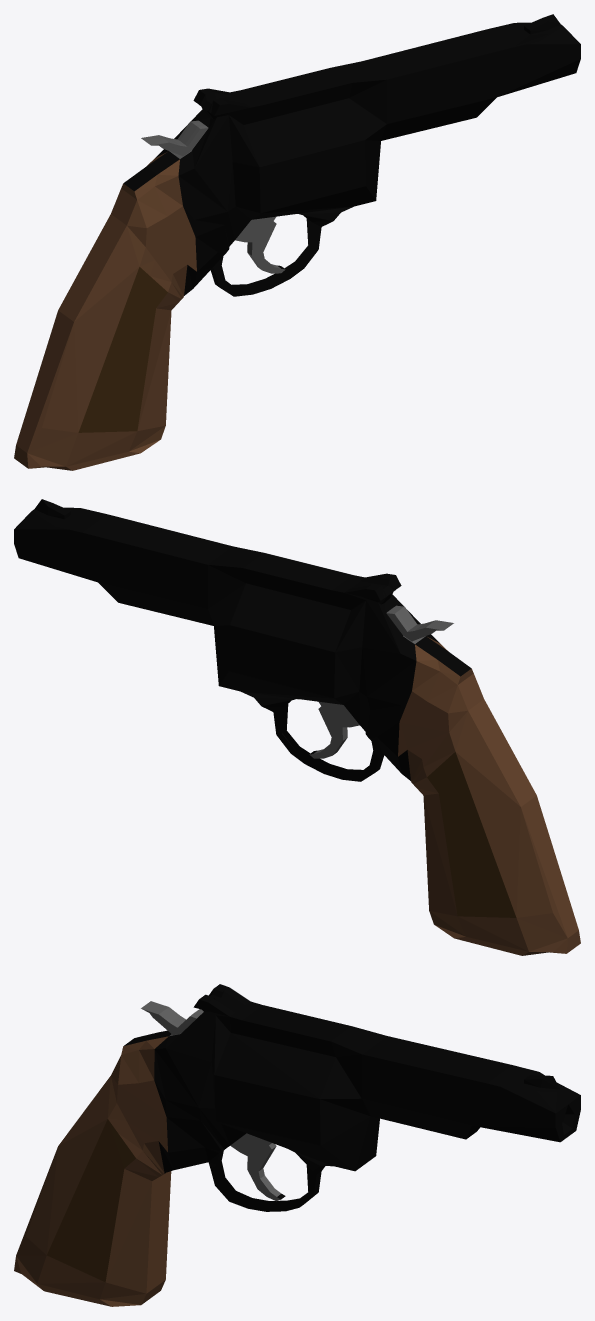
3 views of the same model, one above another, from view 1: azimuth 30°, elevation 25°; view 2: azimuth 150°, elevation 25°; view 3: azimuth 330°, elevation 25° (orthographic).
Parts seen in each view (by area): view 1: Cube.001; view 2: Cube.001; view 3: Cube.001.
Boxes of the visible parts, x1,y1,x2,y2 form: Cube.001: (14,14,580,470); Cube.001: (14,499,580,955); Cube.001: (14,984,580,1306).
Size of the model in its own units: 484 by 275 by 69.3.
